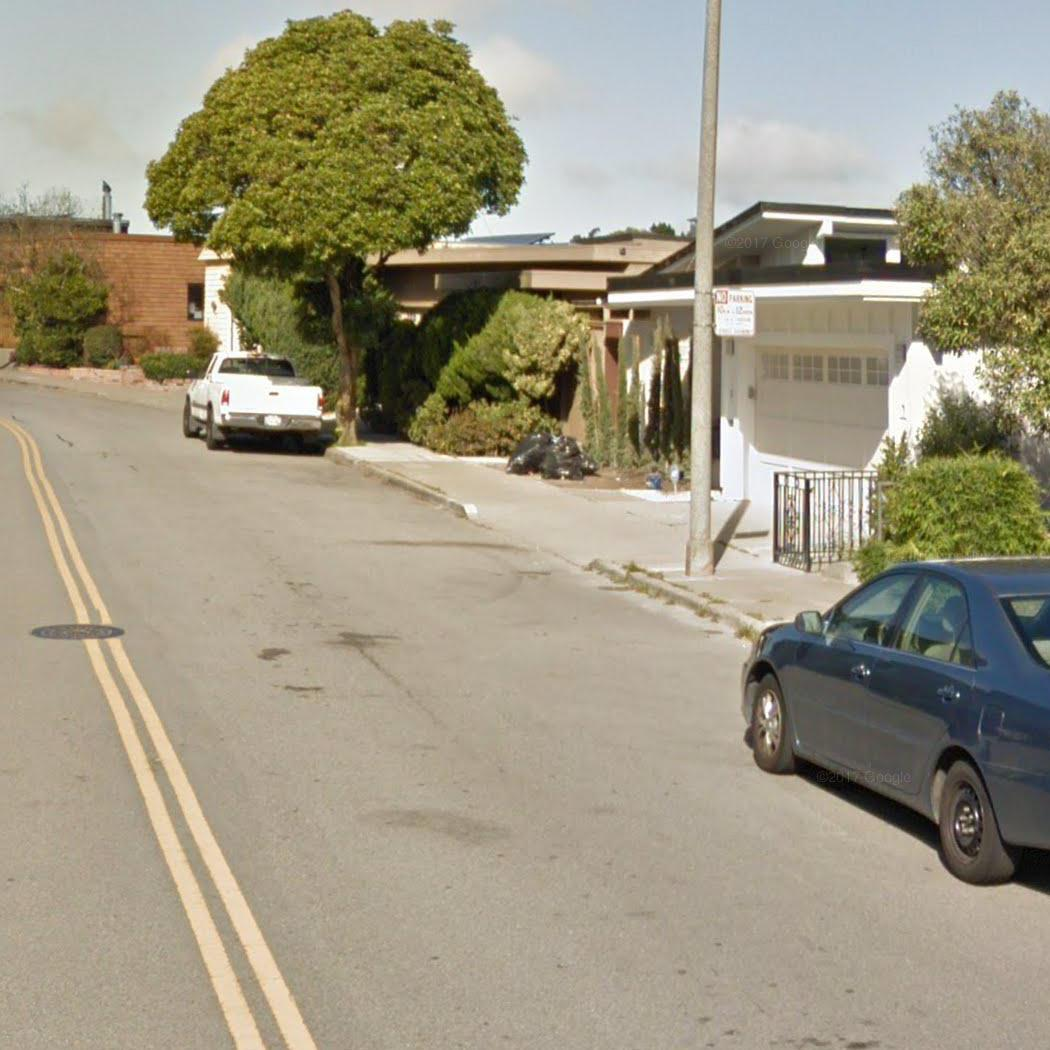No Parking: (709, 286, 758, 339)
